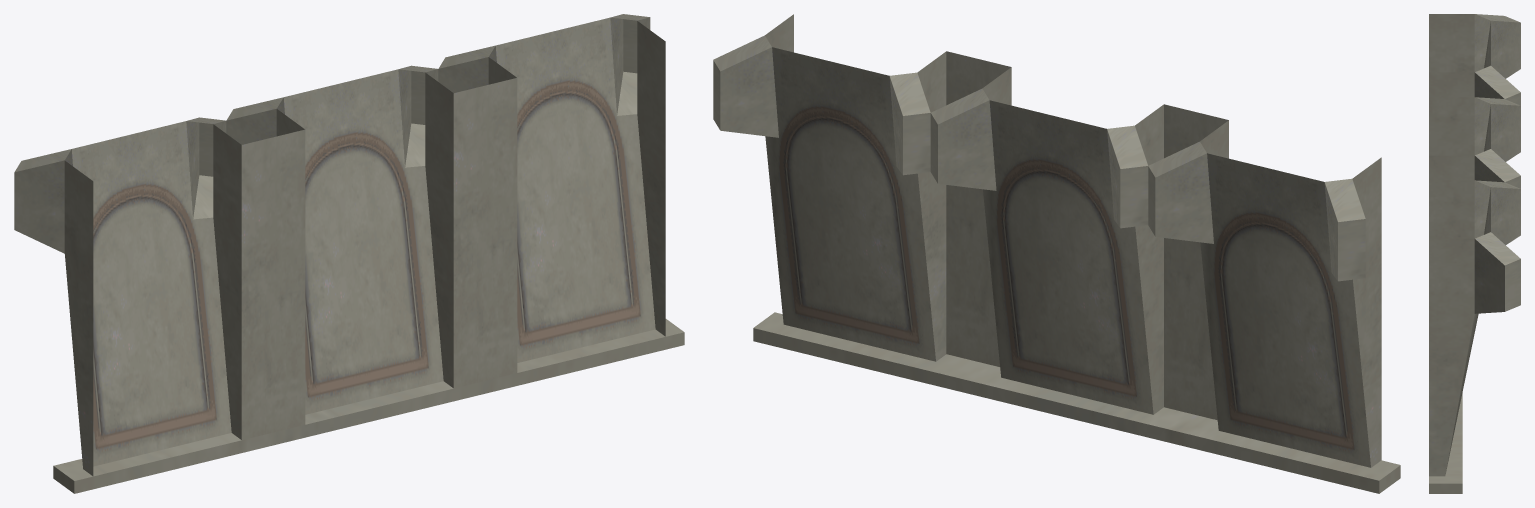
The model's file is ARC1010144.fbx.
3 views of the same model, side by side, from view 1: azimuth 30°, elevation 25°; view 2: azimuth 150°, elevation 25°; view 3: azimuth 270°, elevation 25° (orthographic). The views are drawn at different scales.
Visible parts, largest first — view 1: smARC1010144; view 2: smARC1010144; view 3: smARC1010144.
Boxes of the visible parts, x1,y1,x2,y2 form: smARC1010144: [14, 14, 684, 493]; smARC1010144: [713, 14, 1400, 493]; smARC1010144: [1429, 14, 1520, 493].
Bounding box in the file's own units: 676 × 313 × 105.
1 material, 1 textured.
